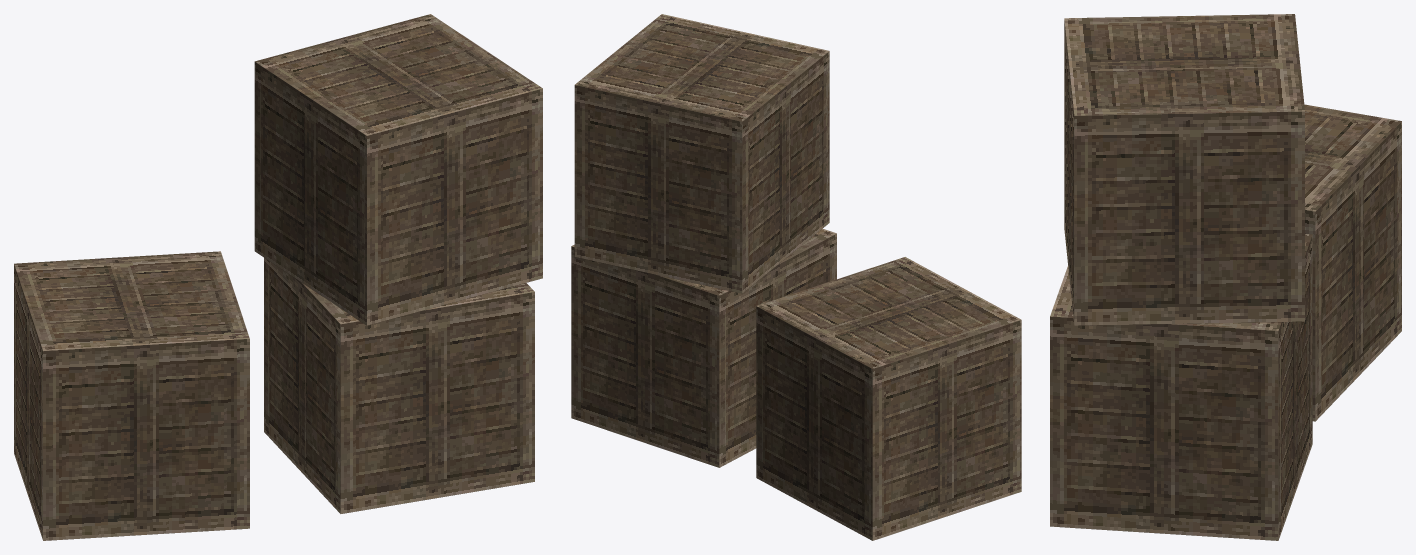
File: WCRATE2.glb
3 renders of one model, left to right at view 1: azimuth 30°, elevation 25°; view 2: azimuth 150°, elevation 25°; view 3: azimuth 270°, elevation 25°, orthographic. The views are drawn at different scales.
Parts seen in each view (by area): view 1: _WCRATE2; view 2: _WCRATE2; view 3: _WCRATE2.
Boxes of the visible parts, x1=… form: _WCRATE2: x1=14, y1=14, x2=542, y2=540; _WCRATE2: x1=571, y1=14, x2=1021, y2=540; _WCRATE2: x1=1050, y1=14, x2=1401, y2=540.
Size of the model in its own units: 2.13 by 1.7 by 1.28.
1 material, 1 textured.
